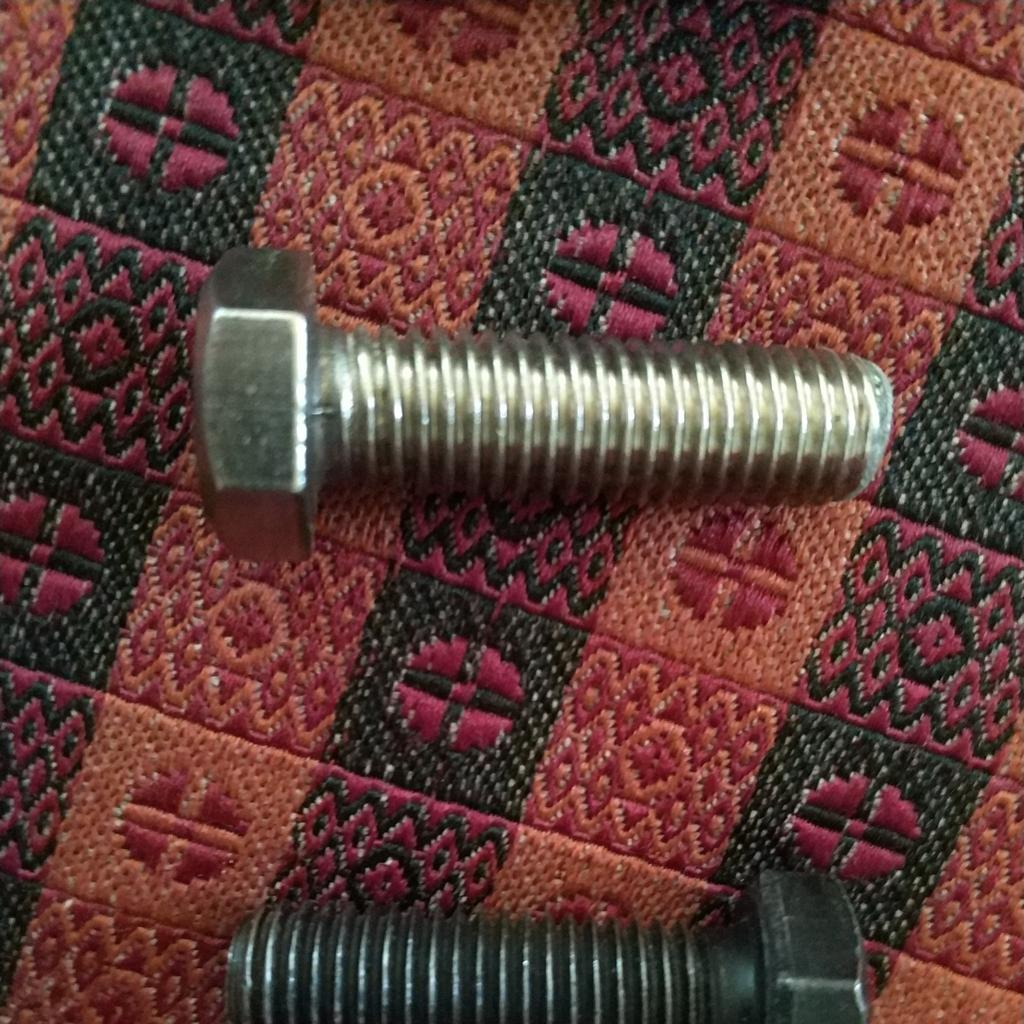screwtype2black: (211, 861, 874, 1022)
screwtype2silver: (181, 234, 895, 539)
